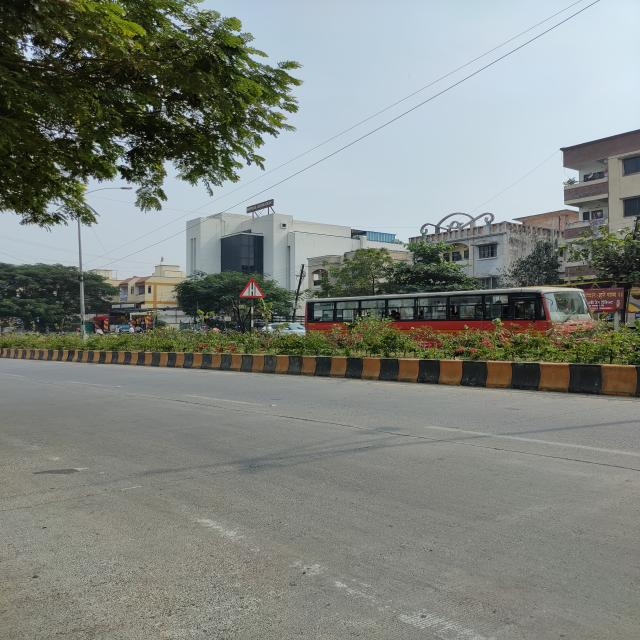ferry: (239, 277, 265, 298)
